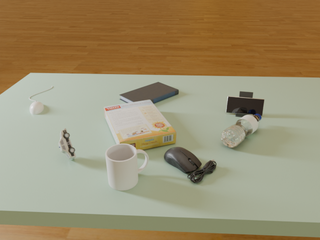book: (120, 82, 179, 104)
bottle: (221, 114, 261, 148)
box: (104, 100, 176, 150)
cup: (106, 144, 149, 190)
mouse: (164, 147, 216, 183), (30, 101, 44, 114)
phone: (226, 96, 264, 116)
toy_car: (59, 128, 76, 159)
